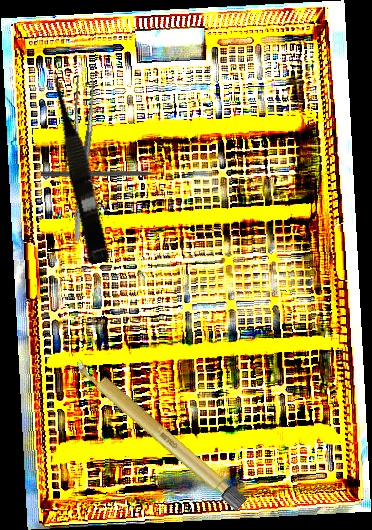Micro Scissor: (45, 67, 114, 266)
Pusher: (41, 171, 173, 178)
Scalpel Handle: (71, 354, 249, 512)
Tissue Forceps: (46, 75, 111, 242)
